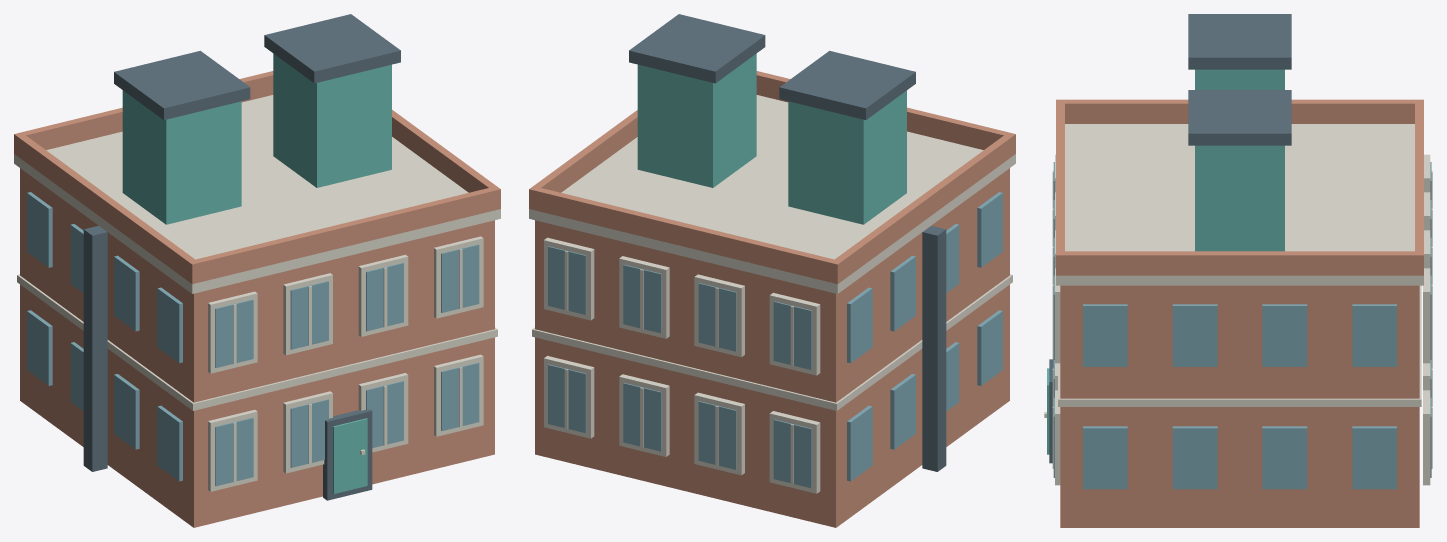
File: voxel-city-districts-waterworks-73fffebb__24792.glb
3 views of the same model, side by side, from view 1: azimuth 30°, elevation 25°; view 2: azimuth 150°, elevation 25°; view 3: azimuth 270°, elevation 25° (orthographic). The views are drawn at different scales.
Parts seen in each view (by area): view 1: waterworks-brick, waterworks-concrete, waterworks-glass, waterworks-accent, waterworks-dark; view 2: waterworks-brick, waterworks-concrete, waterworks-glass, waterworks-accent, waterworks-dark; view 3: waterworks-brick, waterworks-concrete, waterworks-glass, waterworks-dark, waterworks-accent.
Part boxes in pixels (x1,y1,x2,y2): waterworks-brick: (14,71,500,527); waterworks-concrete: (14,95,500,491); waterworks-glass: (27,192,479,486); waterworks-accent: (122,53,391,493); waterworks-dark: (83,14,400,500); waterworks-brick: (529,71,1015,527); waterworks-concrete: (529,95,1015,493); waterworks-glass: (548,192,1002,488); waterworks-accent: (637,53,906,224); waterworks-dark: (629,14,946,471); waterworks-brick: (1056,99,1423,527); waterworks-concrete: (1044,124,1432,485); waterworks-glass: (1053,162,1431,489); waterworks-dark: (1049,14,1291,463); waterworks-accent: (1047,69,1284,454).
Bounding box in the file's own units: 8.6 × 9.3 × 8.66.
